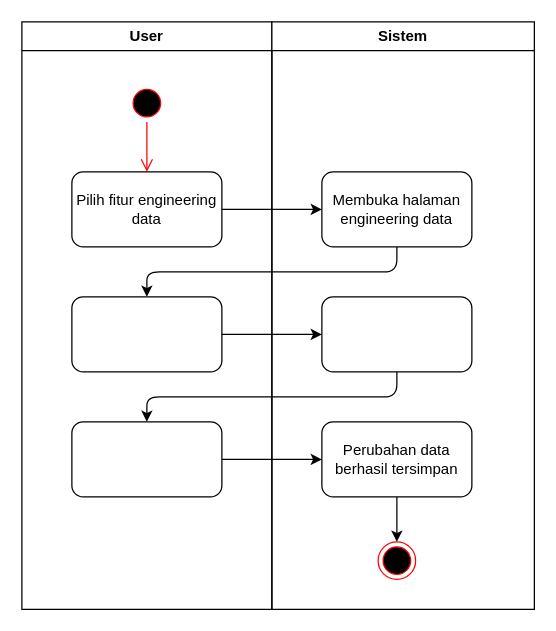
This 556x631 diagram has some shape labels left out. Each missing label, with the centre of its shape:
"Membuka halaman Datasheet" belongs at (396,334).
"Pilih salah satu data dengan tekan (icon eye) pada kolom Datasheet" belongs at (146,334).
"Pilih salah satu tombol hapus pada kolom aksi (icon stop)" belongs at (146,459).
